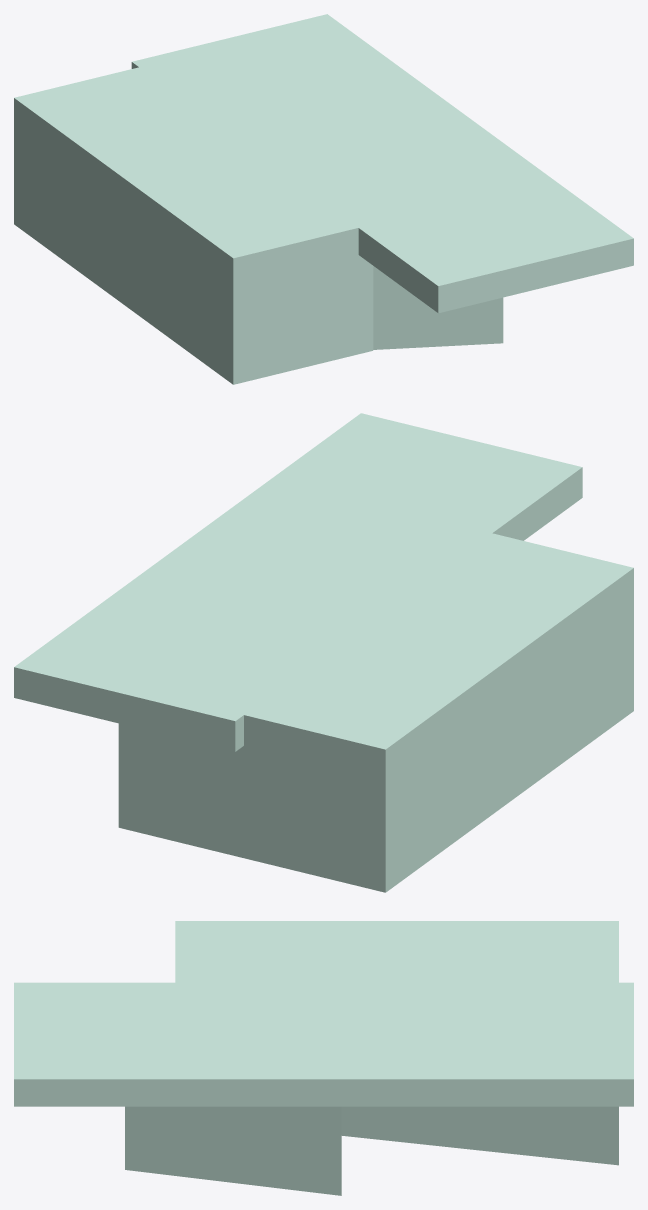
3 renders of one model, top to bottom at view 1: azimuth 30°, elevation 25°; view 2: azimuth 150°, elevation 25°; view 3: azimuth 270°, elevation 25°, orthographic. The views are drawn at different scales.
Visible parts, largest first — view 1: Renderer Node; view 2: Renderer Node; view 3: Renderer Node.
Part boxes in pixels (<box>): Renderer Node: <box>14,14,633,384</box>; Renderer Node: <box>14,413,633,892</box>; Renderer Node: <box>14,921,633,1195</box>.
Bounding box in the file's own units: 0.5806 × 0.2188 × 0.9609.
